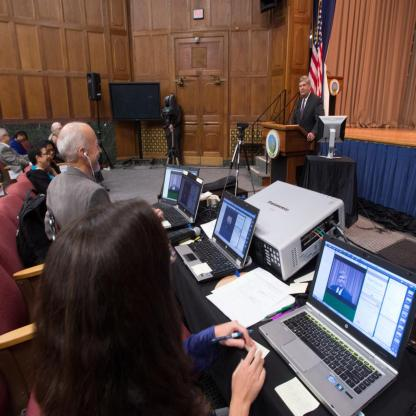board: (258, 232, 416, 416), (174, 191, 260, 283), (160, 169, 204, 231), (150, 162, 200, 208)
